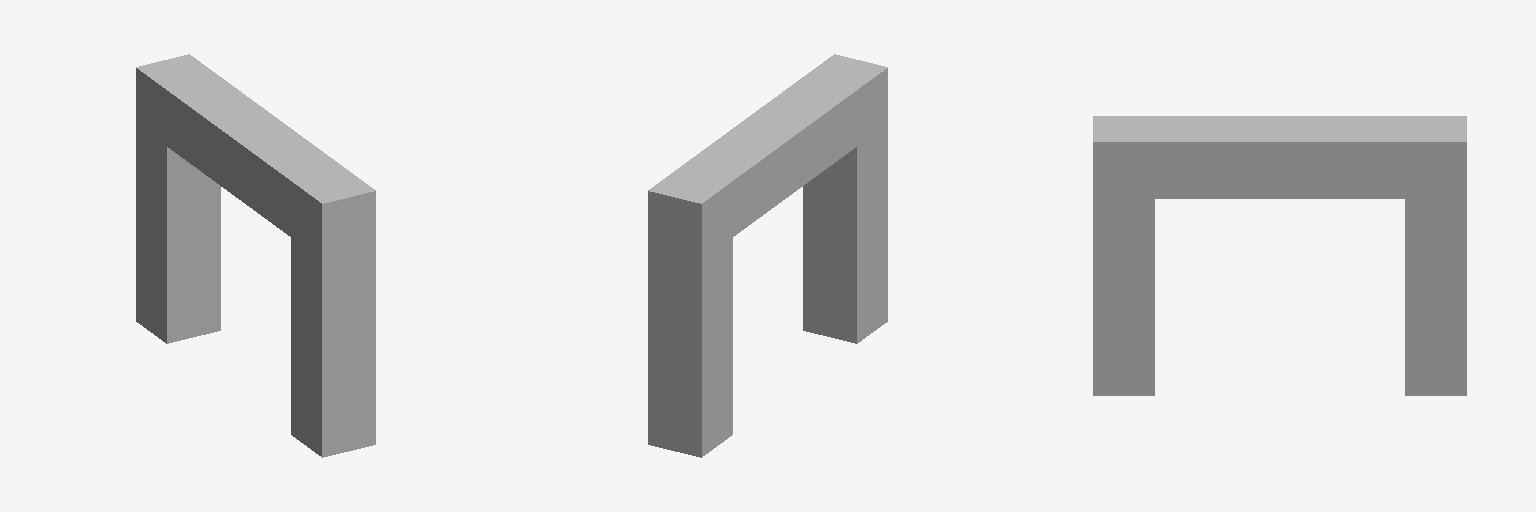
Rendered from wicket_2.obj.
3 views of the same model, side by side, from view 1: azimuth 30°, elevation 25°; view 2: azimuth 150°, elevation 25°; view 3: azimuth 270°, elevation 25° (orthographic).
Parts seen in each view (by area): view 1: pCube1, pCube2, pCube3; view 2: pCube2, pCube1, pCube3; view 3: pCube3, pCube1, pCube2.
Boxes of the visible parts, box(x1,y1,x2,y2) form: pCube1: box(291, 168, 375, 457); pCube2: box(136, 54, 220, 343); pCube3: box(167, 77, 343, 236); pCube2: box(648, 168, 732, 457); pCube1: box(803, 54, 887, 343); pCube3: box(680, 77, 856, 236); pCube3: box(1155, 116, 1404, 198); pCube1: box(1093, 116, 1154, 395); pCube2: box(1405, 116, 1466, 395).
Size of the model in its own units: 1 by 4.5 by 6.